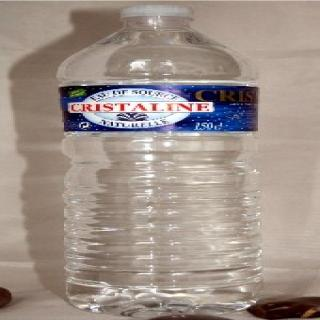Anorganik: (57, 3, 279, 316)
